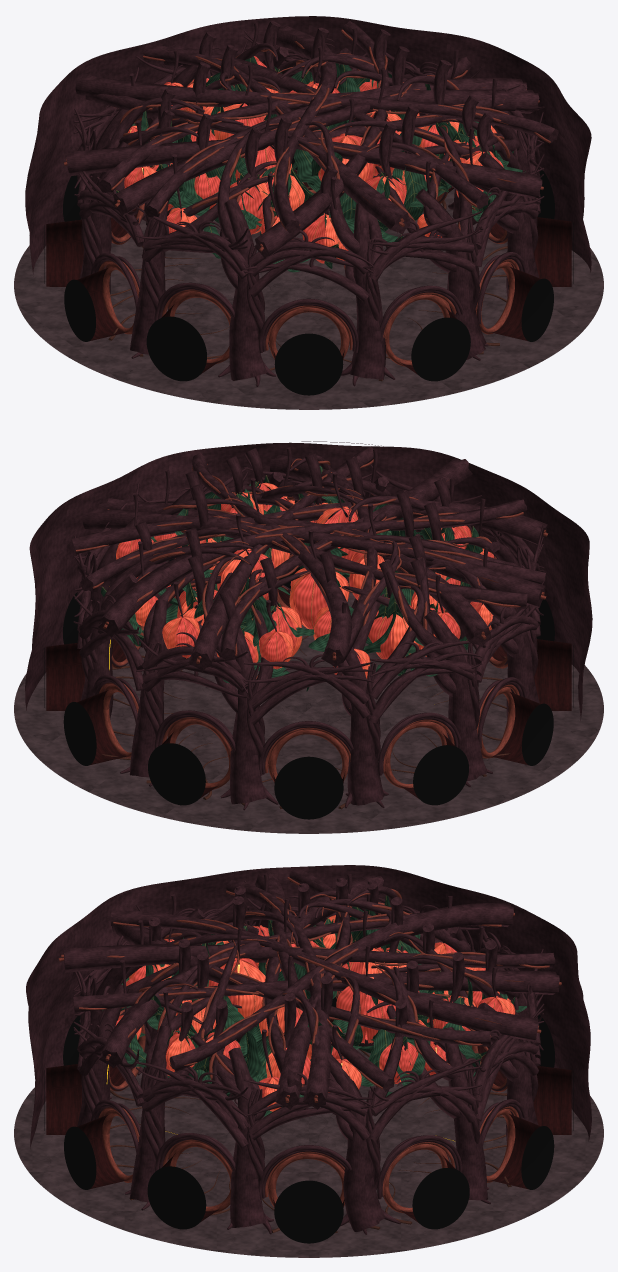
The model's file is sats-arena-carnivorous-v2.glb.
The picture shows the model from 3 angles, top to bottom: view 1: azimuth 30°, elevation 25°; view 2: azimuth 150°, elevation 25°; view 3: azimuth 270°, elevation 25°; orthographic projection.
Visible parts, largest first — view 1: Floor, CanopyBoughs, Trees, Enclosure, CrownRoots, Flowers, Foliage, HangingGrowth, Door_05, Door_06, Door_04, Door_07 (+7 smaller); view 2: Floor, CanopyBoughs, Trees, Enclosure, CrownRoots, Flowers, HangingGrowth, Foliage, Door_01, Door_00, Door_02, Door_03 (+7 smaller); view 3: CanopyBoughs, Floor, Trees, Enclosure, CrownRoots, Flowers, Foliage, HangingGrowth, Door_09, Door_10, Door_08, Door_07 (+7 smaller).
Part boxes in pixels (left/top/right/bottom): Floor: left=14, top=169, right=603, bottom=409; CanopyBoughs: left=64, top=20, right=558, bottom=258; Trees: left=79, top=43, right=538, bottom=386; Enclosure: left=25, top=16, right=591, bottom=276; CrownRoots: left=73, top=31, right=544, bottom=376; Flowers: left=124, top=21, right=503, bottom=263; Foliage: left=116, top=56, right=525, bottom=272; HangingGrowth: left=151, top=21, right=493, bottom=215; Door_05: left=258, top=298, right=358, bottom=395; Door_06: left=380, top=285, right=470, bottom=381; Door_04: left=146, top=282, right=234, bottom=381; Door_07: left=475, top=252, right=553, bottom=341; Floor: left=14, top=592, right=603, bottom=833; CanopyBoughs: left=71, top=446, right=548, bottom=671; Trees: left=80, top=455, right=539, bottom=810; Enclosure: left=25, top=441, right=592, bottom=720; CrownRoots: left=73, top=453, right=544, bottom=762; Flowers: left=116, top=447, right=494, bottom=678; HangingGrowth: left=135, top=448, right=454, bottom=620; Foliage: left=101, top=466, right=482, bottom=691; Door_01: left=258, top=721, right=353, bottom=819; Door_00: left=148, top=710, right=235, bottom=805; Door_02: left=378, top=712, right=468, bottom=805; Door_03: left=476, top=677, right=553, bottom=765; CanopyBoughs: left=58, top=867, right=561, bottom=1109; Floor: left=14, top=1033, right=603, bottom=1257; Trees: left=77, top=886, right=538, bottom=1234; Enclosure: left=26, top=865, right=591, bottom=1148; CrownRoots: left=73, top=877, right=544, bottom=1189; Flowers: left=115, top=872, right=515, bottom=1111; Foliage: left=102, top=895, right=526, bottom=1116; HangingGrowth: left=149, top=878, right=497, bottom=1050; Door_09: left=258, top=1145, right=351, bottom=1243; Door_10: left=377, top=1135, right=469, bottom=1229; Door_08: left=147, top=1133, right=235, bottom=1229; Door_07: left=64, top=1099, right=140, bottom=1189.
Size of the model in its own units: 32 by 12.98 by 32.
Materials: 14 (9 with a texture image).
